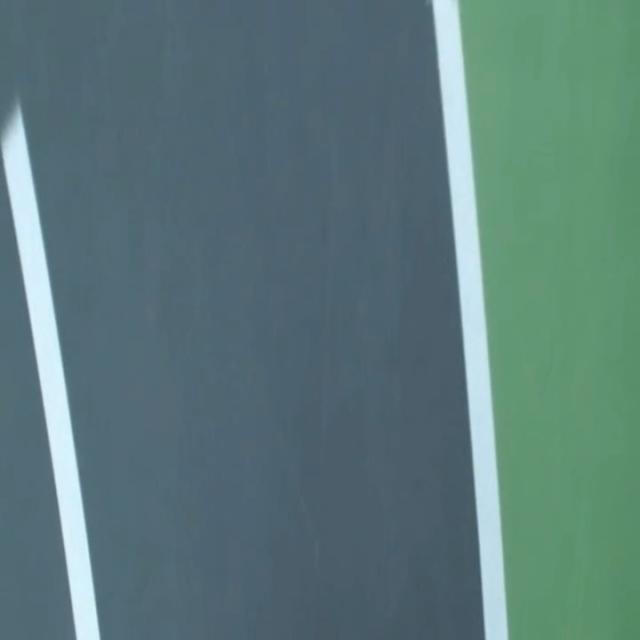center: (0, 105, 100, 639)
right: (432, 0, 508, 639)
